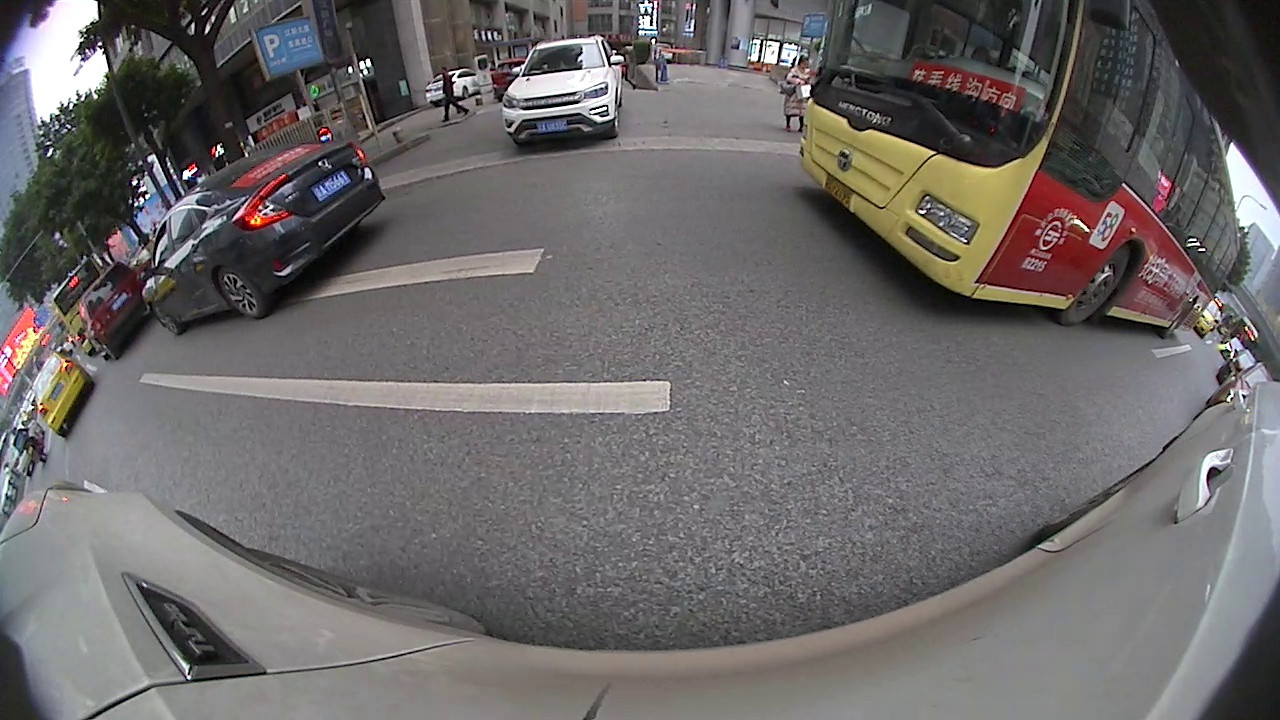car: (703, 3, 1113, 346), (294, 60, 483, 169), (61, 196, 197, 328), (591, 67, 737, 129), (1190, 382, 1260, 477), (1124, 289, 1192, 365)
front: (1047, 298, 1093, 348), (96, 289, 126, 326), (302, 137, 331, 167), (610, 93, 641, 120)
rear: (839, 231, 934, 324), (397, 111, 430, 147)
